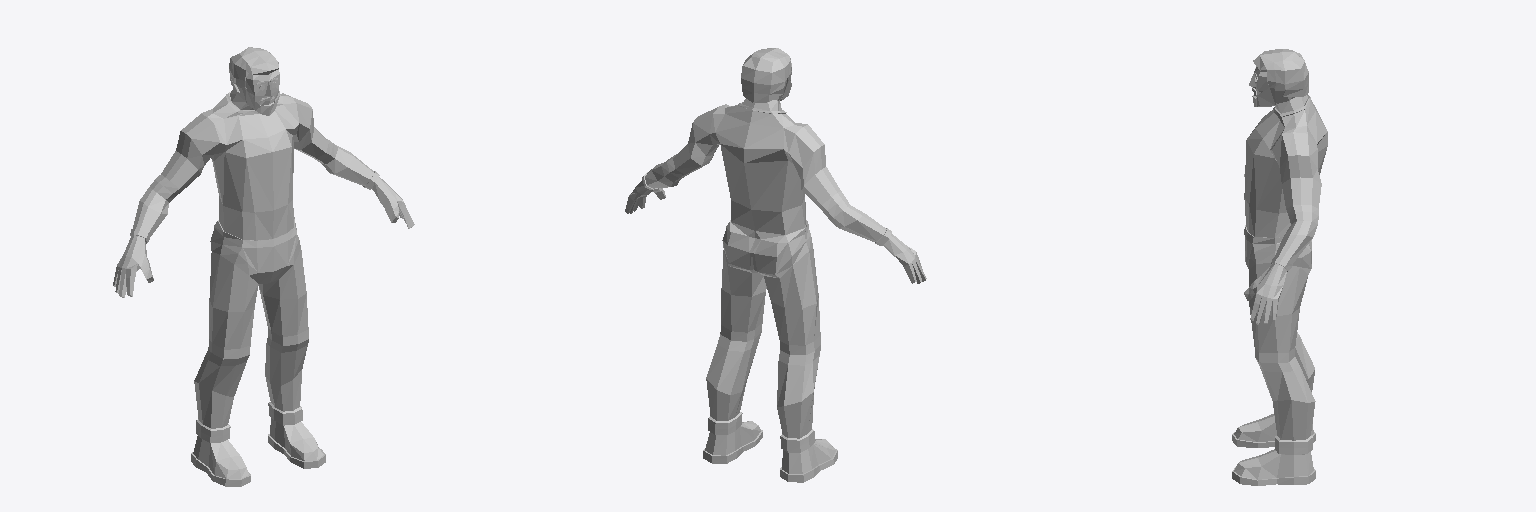
File: export_man.obj
3 views of the same model, side by side, from view 1: azimuth 30°, elevation 25°; view 2: azimuth 150°, elevation 25°; view 3: azimuth 270°, elevation 25° (orthographic).
Visible parts, largest first — view 1: mesh_2, mesh_3, mesh_5, mesh_7, mesh_1, mesh_4, mesh_6; view 2: mesh_3, mesh_2, mesh_7, mesh_1, mesh_5, mesh_4, mesh_6; view 3: mesh_2, mesh_3, mesh_7, mesh_5, mesh_1, mesh_4.
Boxes of the visible parts, box(x1,y1,x2,y2) form: mesh_2: box(133, 93, 374, 240); mesh_3: box(194, 228, 308, 442); mesh_5: box(113, 70, 414, 297); mesh_7: box(130, 92, 379, 478); mesh_1: box(229, 47, 279, 115); mesh_4: box(191, 434, 325, 486); mesh_6: box(214, 217, 296, 247); mesh_3: box(706, 228, 820, 452); mesh_2: box(645, 104, 886, 241); mesh_7: box(642, 102, 891, 473); mesh_1: box(741, 48, 791, 102); mesh_5: box(625, 63, 926, 283); mesh_4: box(703, 430, 837, 482); mesh_6: box(726, 220, 808, 242); mesh_2: box(1244, 100, 1327, 264); mesh_3: box(1245, 237, 1315, 454); mesh_7: box(1234, 94, 1313, 479); mesh_5: box(1244, 67, 1307, 324); mesh_1: box(1252, 49, 1308, 106); mesh_4: box(1232, 432, 1315, 485).
Size of the model in its own units: 1.45 by 1.91 by 0.4068.